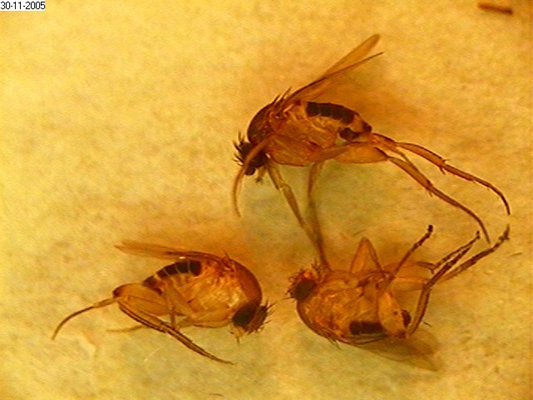phorid fly: (208, 38, 516, 231), (36, 231, 273, 392), (283, 241, 521, 378)
